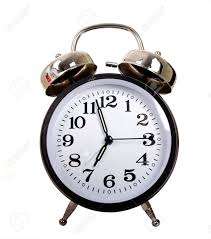alarm_clock: (30, 21, 180, 222), (39, 21, 180, 222)
